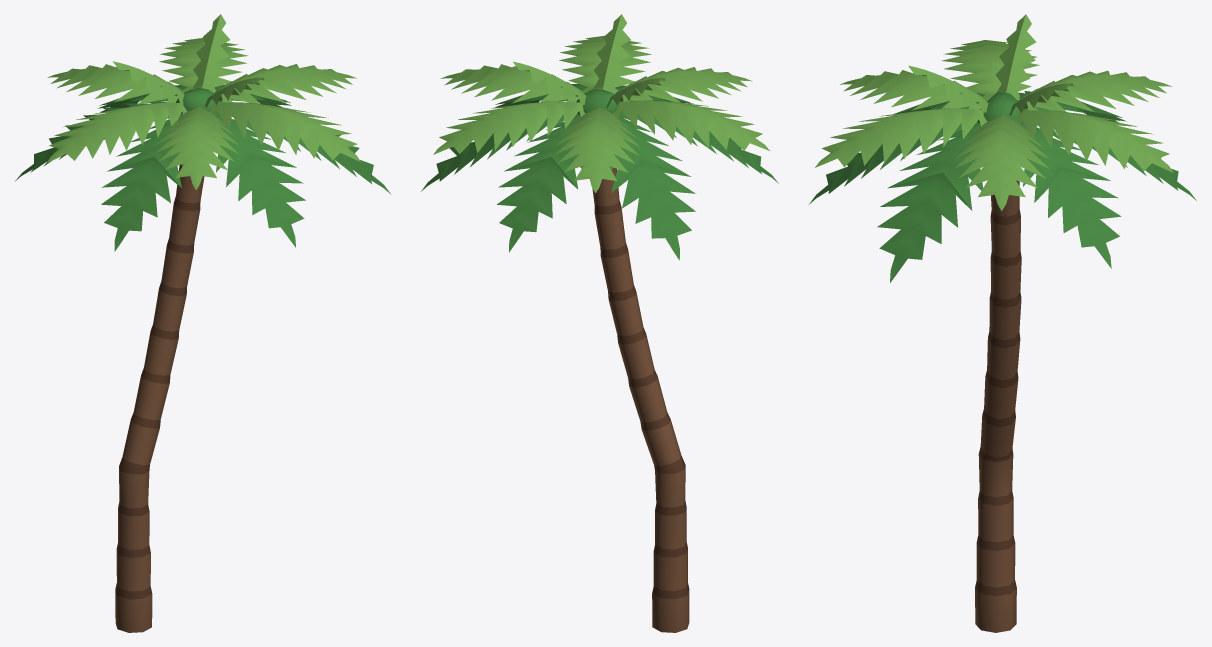
Rendered from palm_a.glb.
3 views of the same model, side by side, from view 1: azimuth 30°, elevation 25°; view 2: azimuth 150°, elevation 25°; view 3: azimuth 270°, elevation 25° (orthographic). The views are drawn at different scales.
Visible parts, largest first — view 1: body; view 2: body; view 3: body.
Part boxes in pixels (x1,y1,x2,y2): body: (15,14,391,632); body: (421,14,778,632); body: (809,14,1196,632).
Size of the model in its own units: 5.19 by 8.6 by 5.01.
